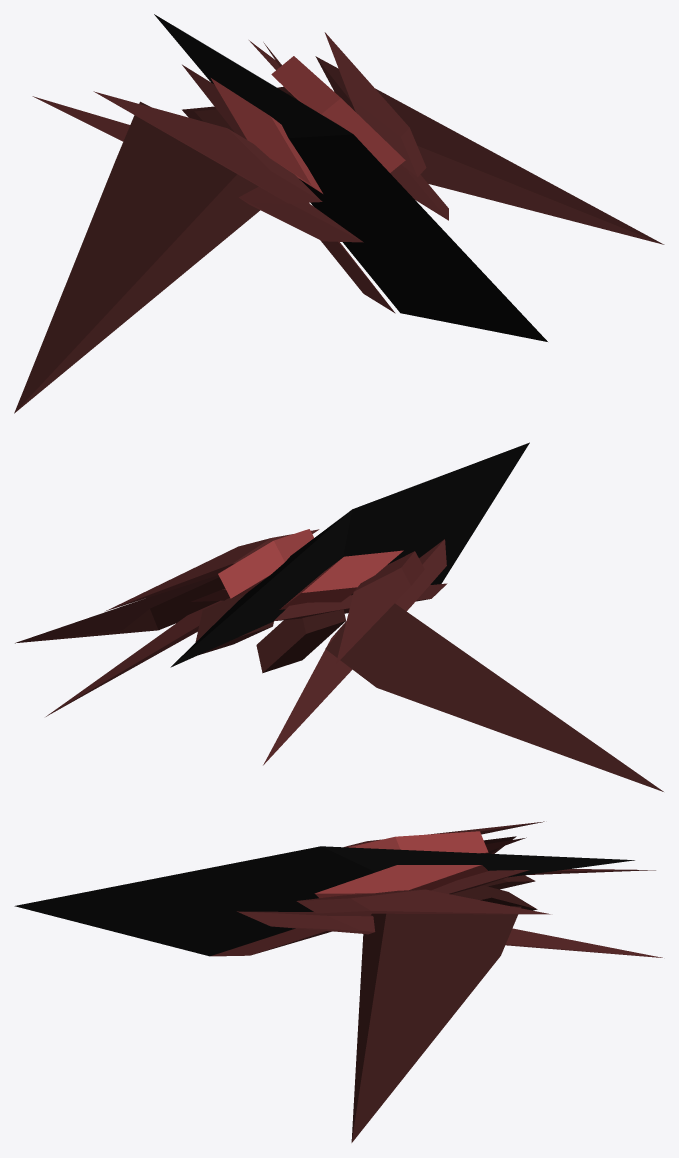
The picture shows the model from 3 angles, top to bottom: view 1: azimuth 30°, elevation 25°; view 2: azimuth 150°, elevation 25°; view 3: azimuth 270°, elevation 25°; orthographic projection. The views are drawn at different scales.
Parts seen in each view (by area): view 1: LowPolySpaceship05; view 2: LowPolySpaceship05; view 3: LowPolySpaceship05.
Part boxes in pixels (<box>): LowPolySpaceship05: <box>14,14,664,413</box>; LowPolySpaceship05: <box>15,442,663,791</box>; LowPolySpaceship05: <box>14,821,662,1142</box>.
Size of the model in its own units: 4.72 by 1.4 by 4.96.
